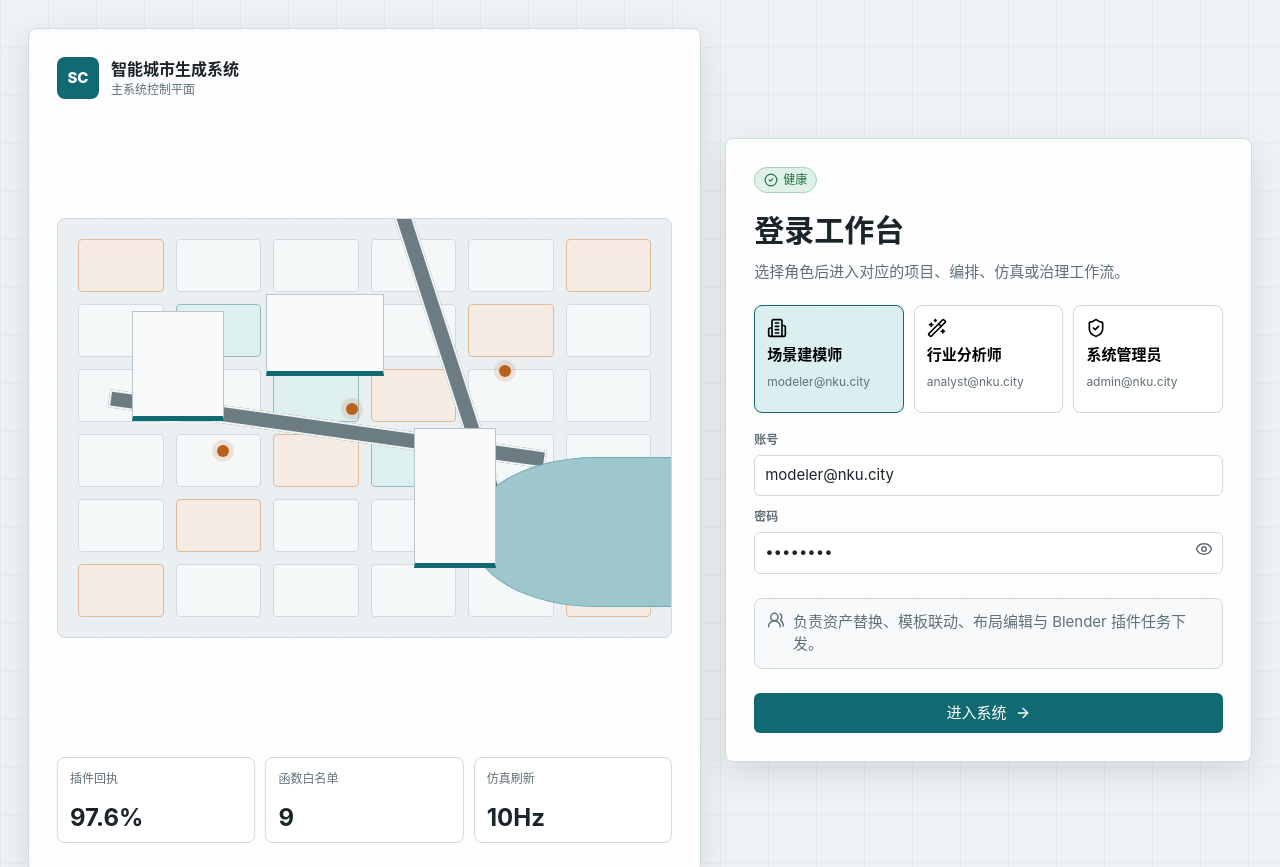
Scenario: App › opens the Blender plugin entry dialog from the modeler portal
Click the button "进入系统" at (989, 713), box [754,692,1223,733]
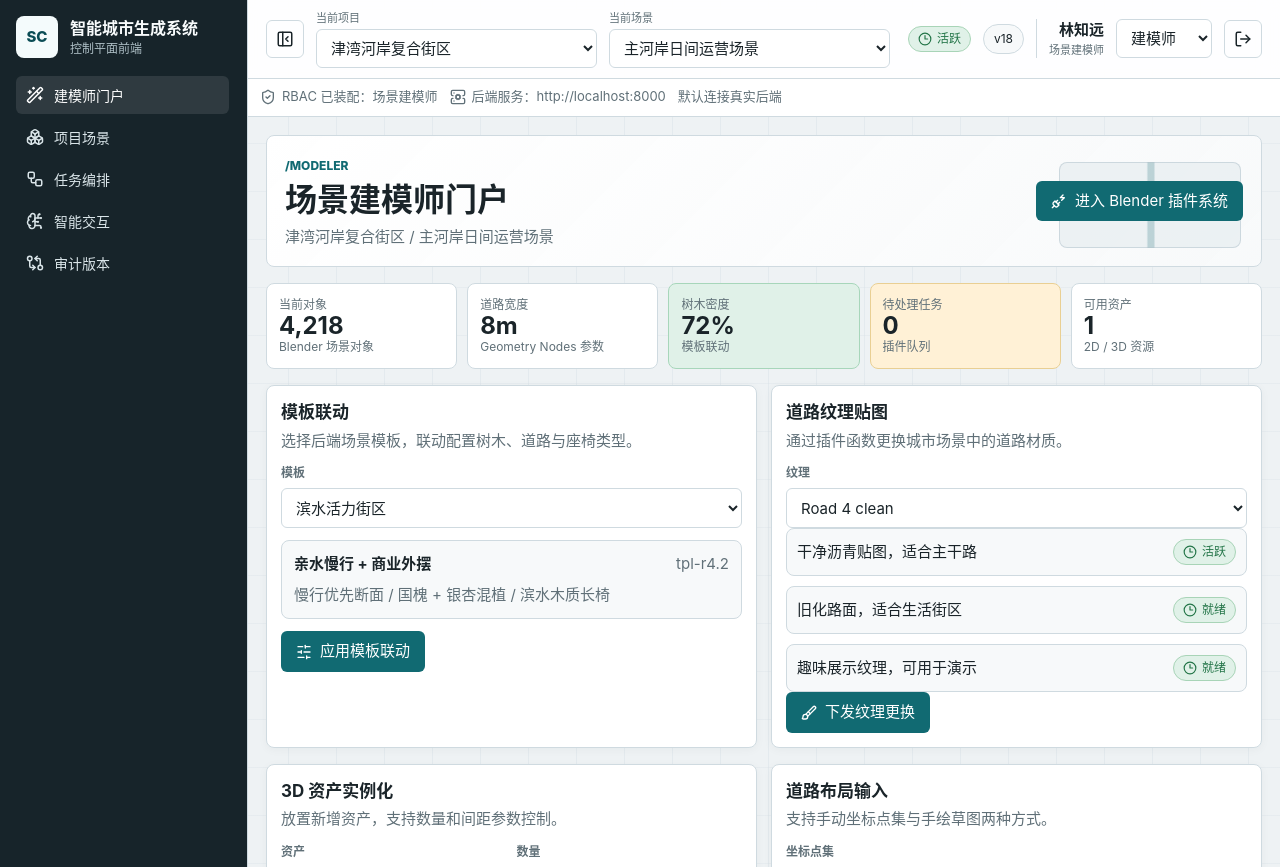
Click the button "进入 Blender 插件系统" at (1139, 201), box [1036,181,1243,221]
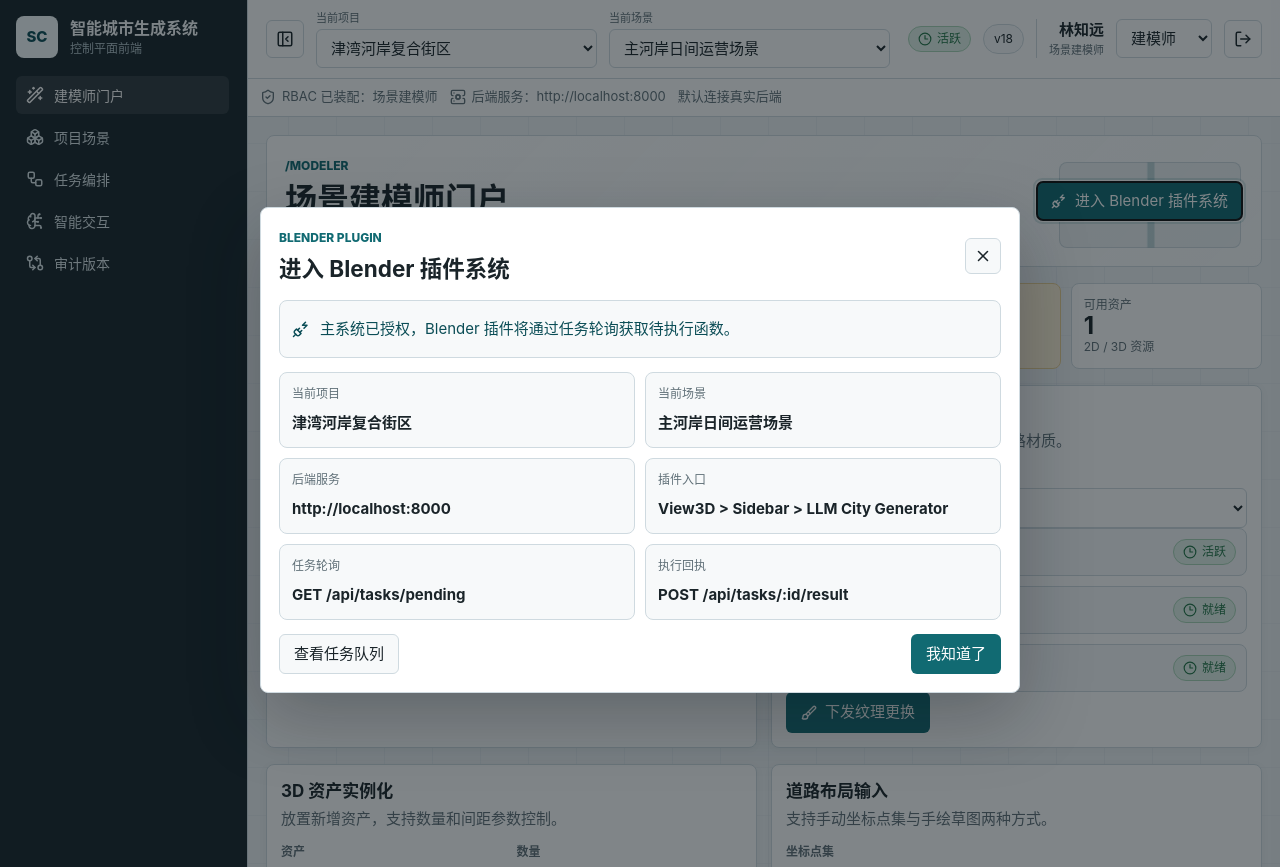
Expected: the dialog "进入 Blender 插件系统" is shown, [260,207,1020,693]
Expected: the text "View3D > Sidebar > LLM City Generator" is shown, [658,498,988,521]
Expected: the text "主系统已授权，Blender 插件将通过任务轮询获取待执行函数。" is shown, [320,318,739,340]
